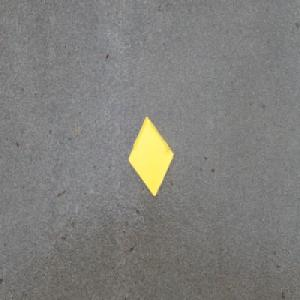PlasticPart: (127, 114, 174, 197)
